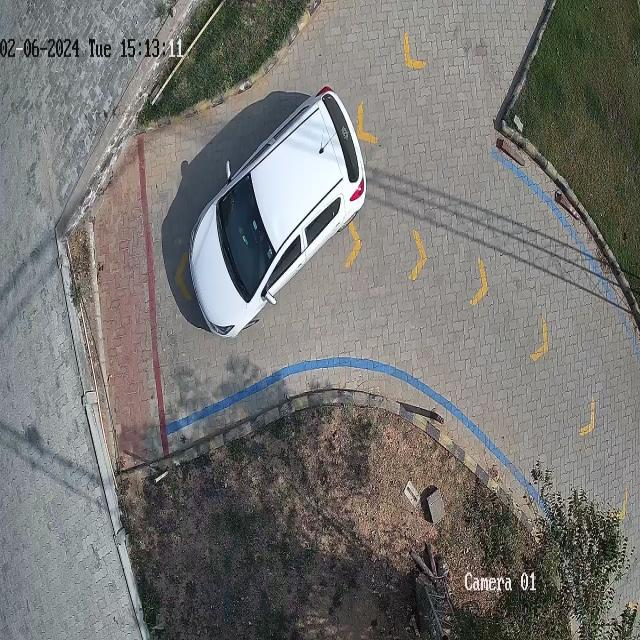car: (189, 89, 366, 337)
